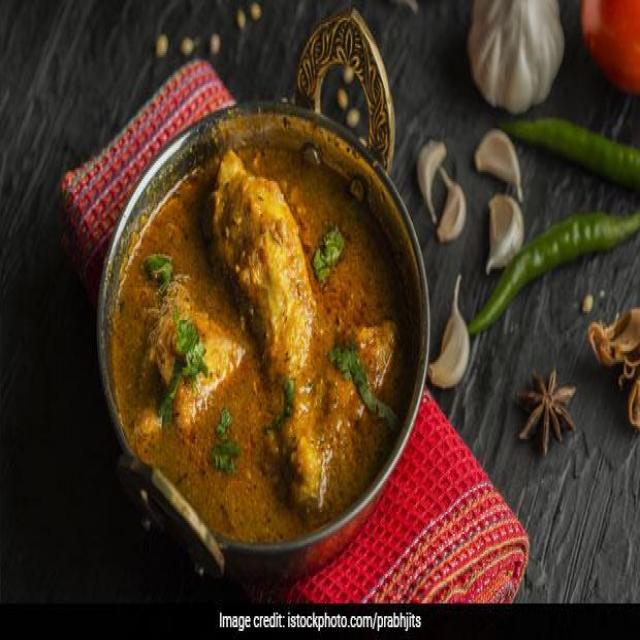chicken: (109, 129, 413, 530)
